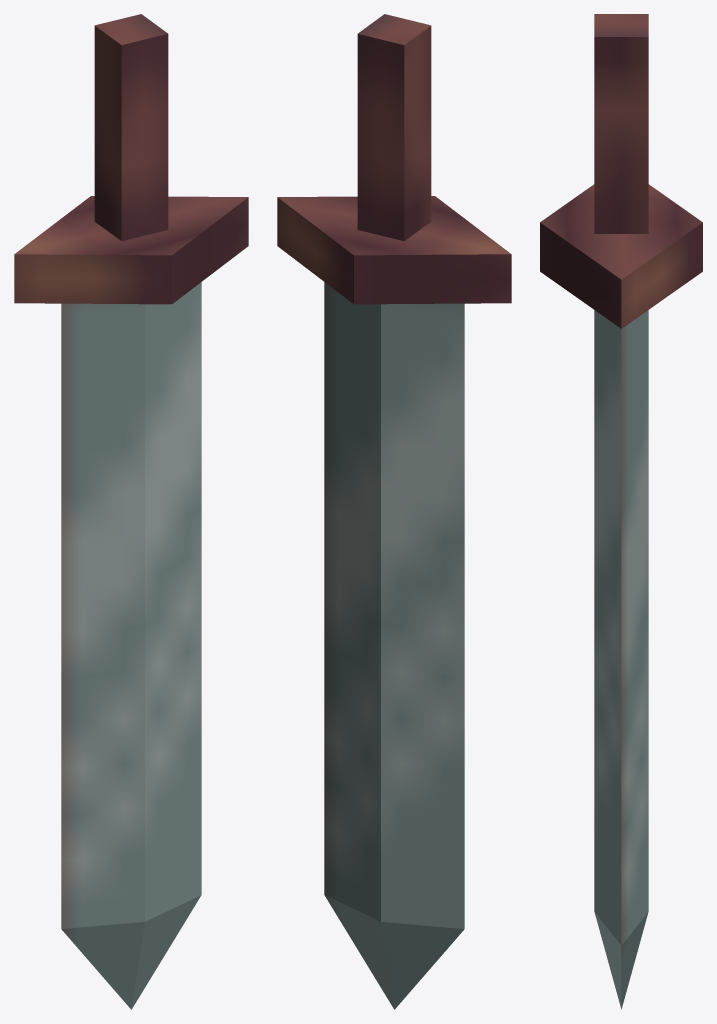
Rendered from Sword.fbx.
The picture shows the model from 3 angles, left to right: view 1: azimuth 30°, elevation 25°; view 2: azimuth 150°, elevation 25°; view 3: azimuth 270°, elevation 25°; orthographic projection.
Visible parts, largest first — view 1: Cube.008; view 2: Cube.008; view 3: Cube.008.
Part boxes in pixels (x1,y1,x2,y2): Cube.008: (14, 14, 248, 1009); Cube.008: (277, 14, 511, 1009); Cube.008: (540, 14, 702, 1009).
Bounding box in the file's own units: 0.3125 × 0.1875 × 1.25.
